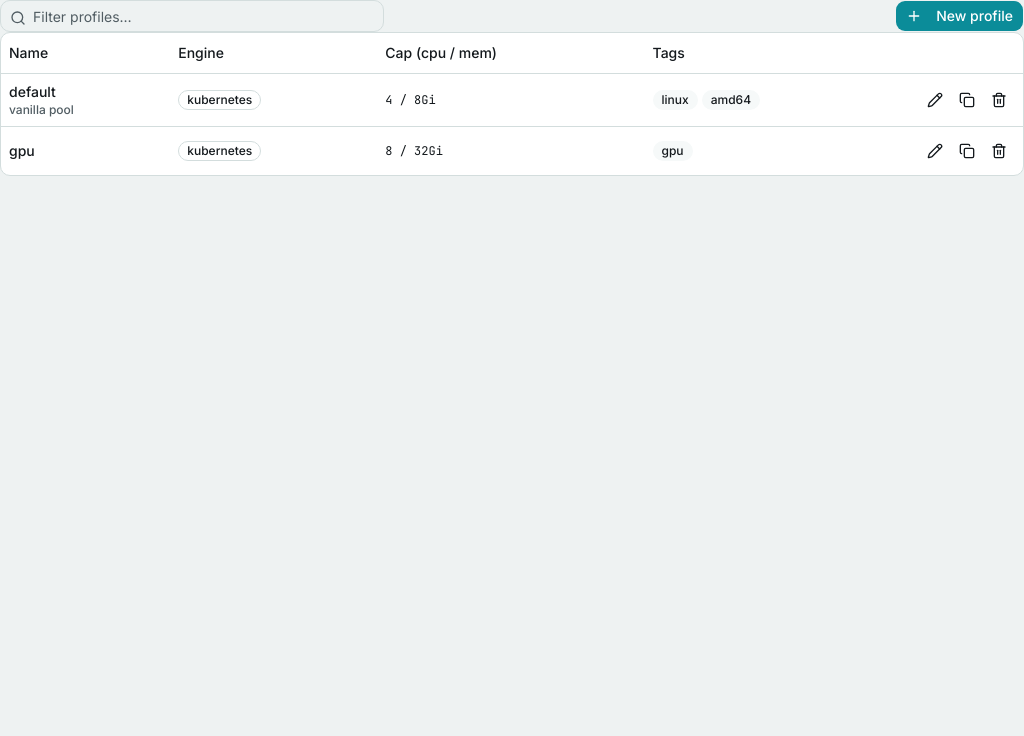
Test: ProfilesManager › clone opens a create-mode editor pre-filled with a -copy name
The image size is (1024, 736).
Click the button named "clone default" at [967, 100], box [951,84,983,116]
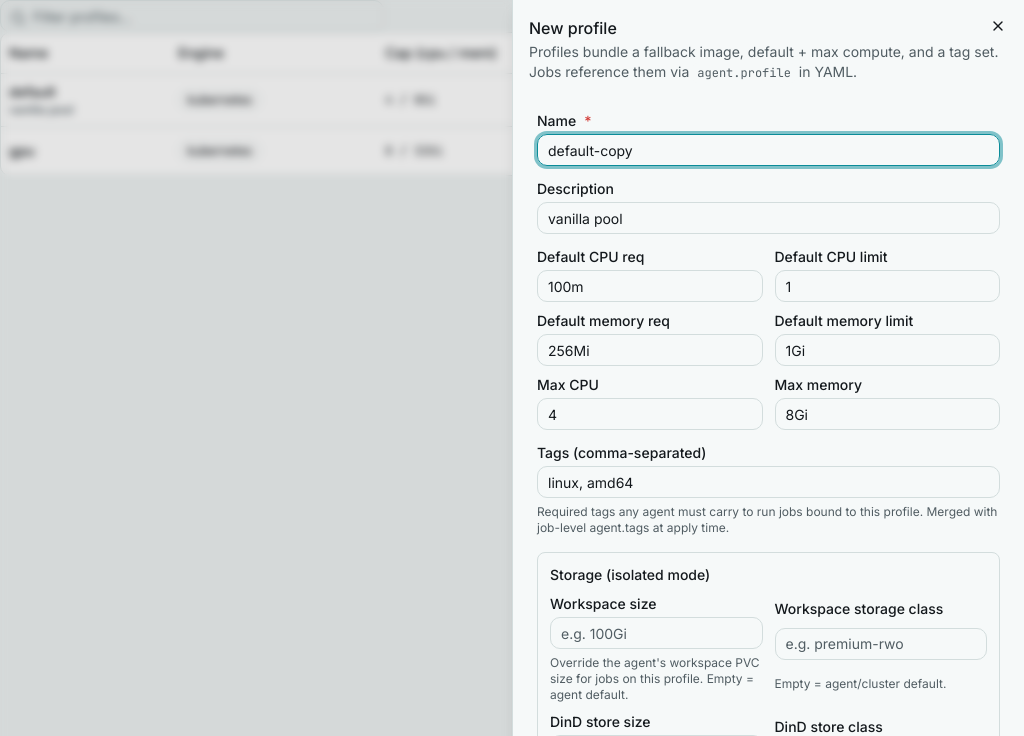
Expected: the heading "New profile" is shown, [529,18,617,38]
Expected: the 1st field with placeholder "default" holds "default-copy", [537,134,1000,166]
Expected: the field showing "4" below "Max CPU" is shown, [537,398,762,430]
